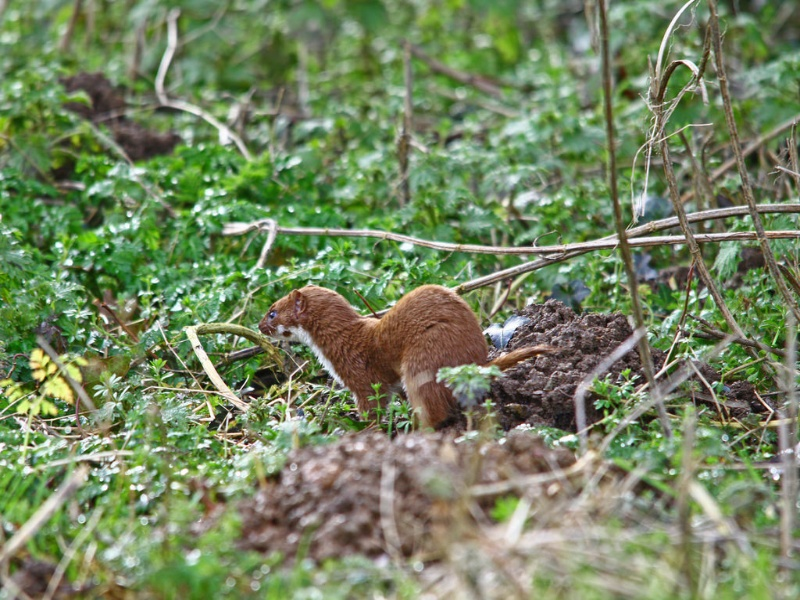minkish: (256, 280, 555, 437)
